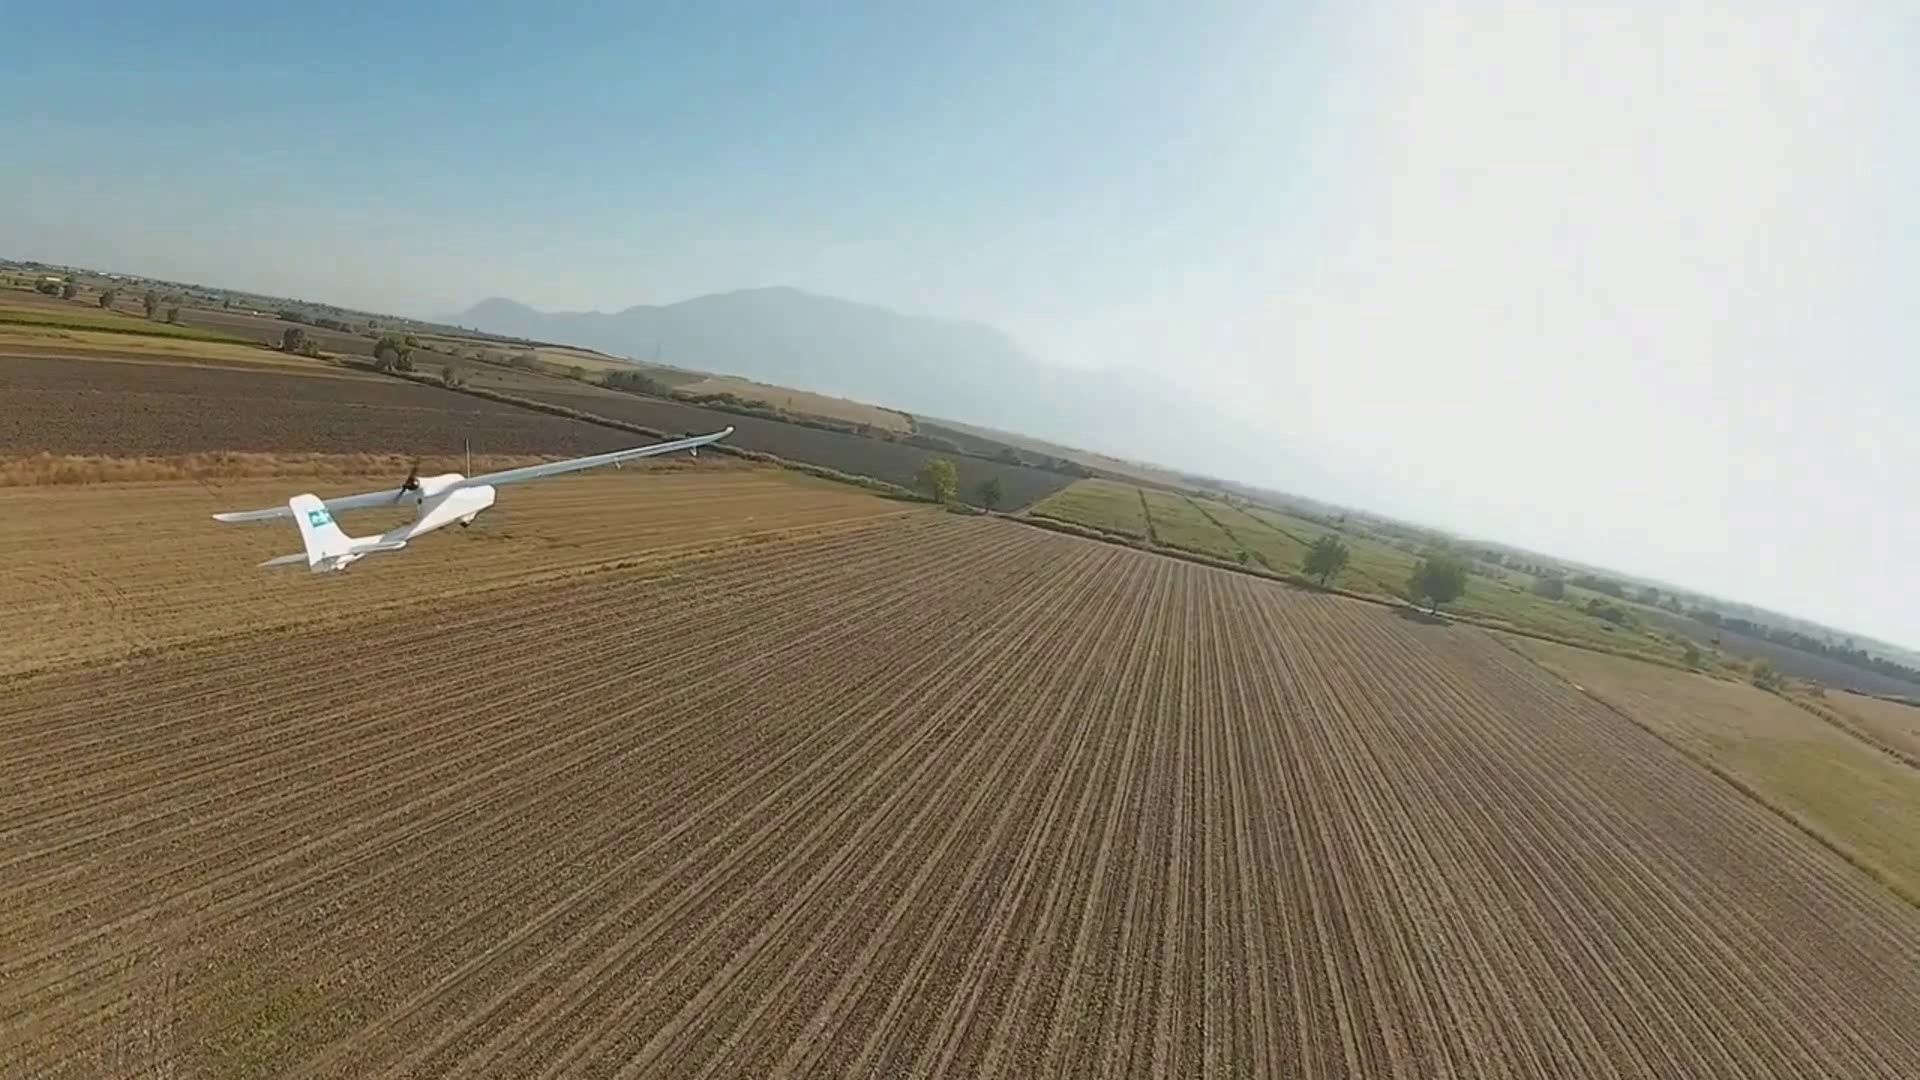airplane: (211, 422, 733, 574), (212, 462, 498, 574)
